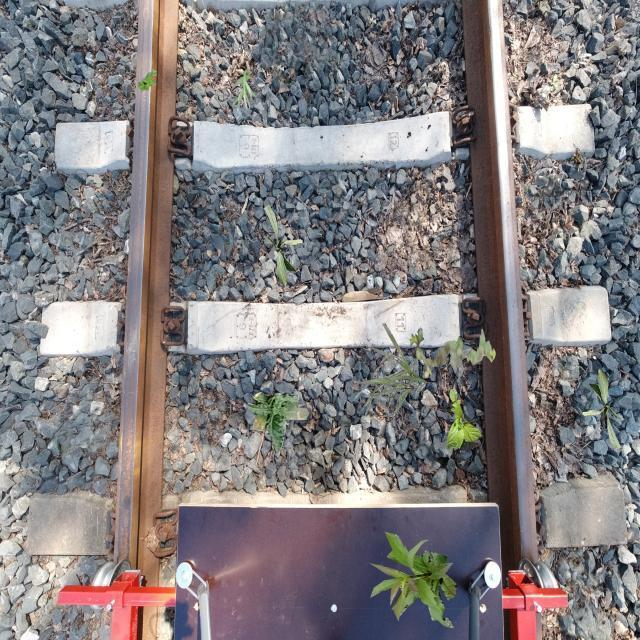Plant: (368, 531, 456, 628), (355, 323, 428, 416), (410, 327, 497, 378), (246, 392, 310, 454), (263, 205, 303, 288), (582, 368, 622, 450), (447, 389, 482, 452), (231, 69, 258, 111), (138, 69, 158, 94)
